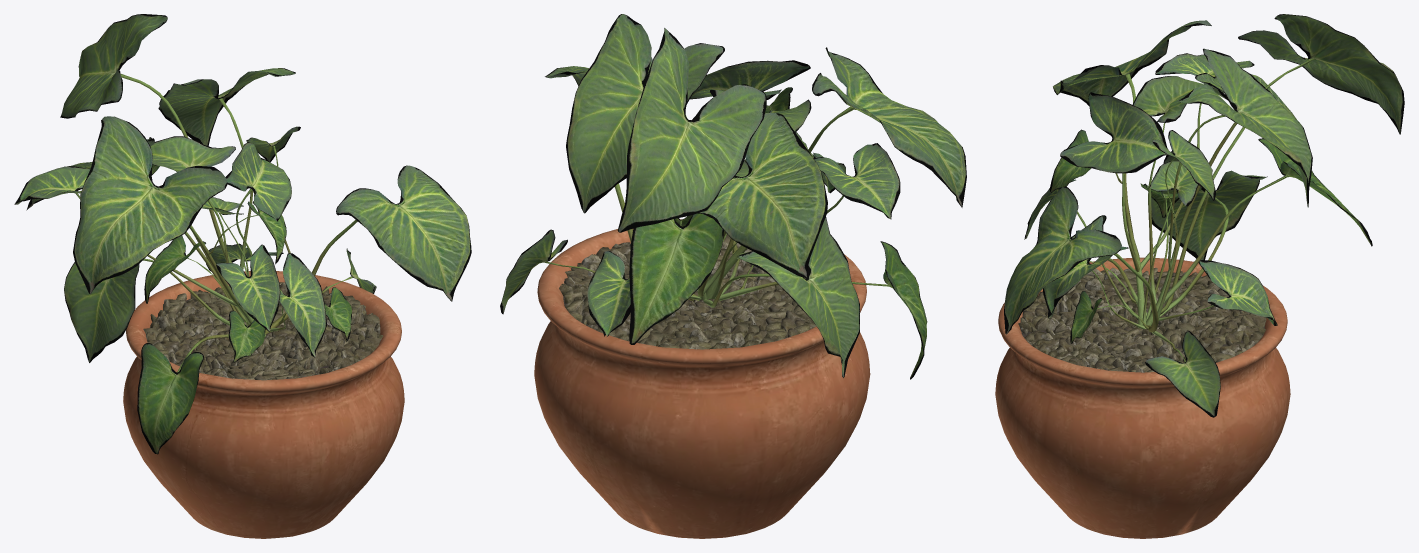
File: potted_plant_02.glb
3 renders of one model, left to right at view 1: azimuth 30°, elevation 25°; view 2: azimuth 150°, elevation 25°; view 3: azimuth 270°, elevation 25°, orthographic. The views are drawn at different scales.
Visible parts, largest first — view 1: potted_plant_02_leaves, potted_plant_02_pot, potted_plant_02_dirt; view 2: potted_plant_02_leaves, potted_plant_02_pot, potted_plant_02_dirt; view 3: potted_plant_02_leaves, potted_plant_02_pot, potted_plant_02_dirt.
Boxes of the visible parts, x1=… form: potted_plant_02_leaves: x1=14, y1=14, x2=471, y2=454; potted_plant_02_pot: x1=123, y1=271, x2=404, y2=538; potted_plant_02_dirt: x1=143, y1=282, x2=383, y2=380; potted_plant_02_leaves: x1=500, y1=14, x2=966, y2=379; potted_plant_02_pot: x1=534, y1=219, x2=870, y2=538; potted_plant_02_dirt: x1=559, y1=233, x2=816, y2=349; potted_plant_02_leaves: x1=1004, y1=14, x2=1404, y2=417; potted_plant_02_pot: x1=995, y1=257, x2=1290, y2=538; potted_plant_02_dirt: x1=1018, y1=267, x2=1266, y2=372.
Size of the model in its own units: 0.7012 by 0.8412 by 0.6574.
Materials: 2 (2 with a texture image).
